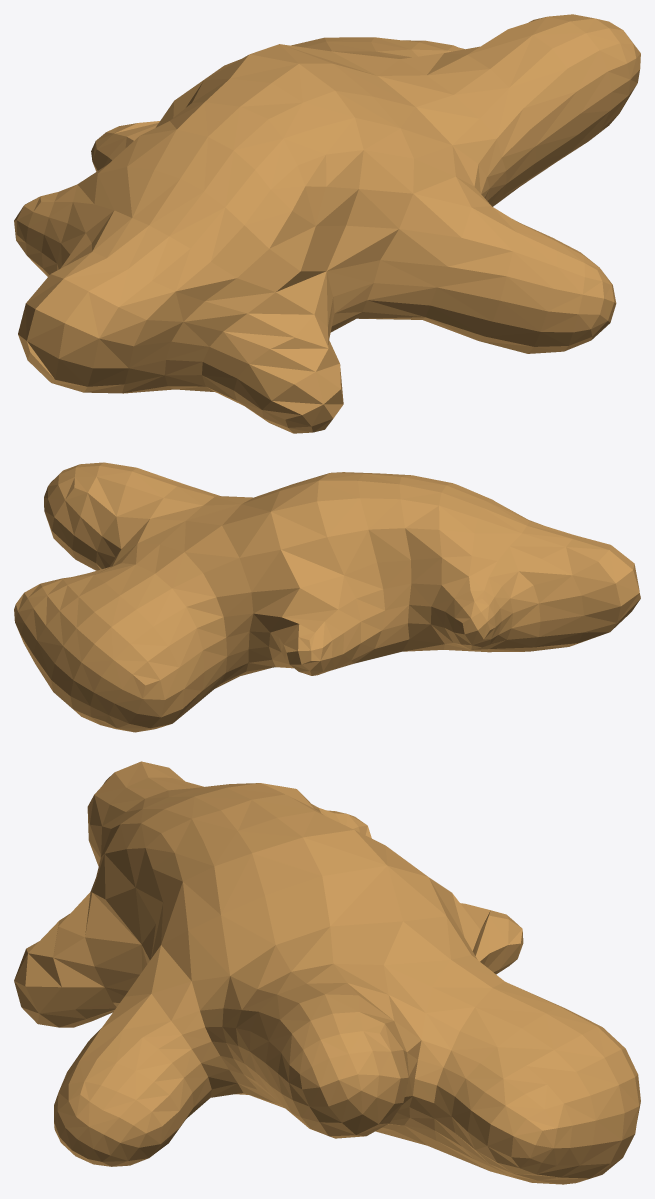
File: Ginger root.glb
3 views of the same model, one above another, from view 1: azimuth 30°, elevation 25°; view 2: azimuth 150°, elevation 25°; view 3: azimuth 270°, elevation 25° (orthographic). The views are drawn at different scales.
Parts seen in each view (by area): view 1: Node; view 2: Node; view 3: Node.
Part boxes in pixels (x1,y1,x2,y2): Node: (14, 14, 640, 433); Node: (14, 462, 640, 732); Node: (14, 761, 640, 1184).
Size of the model in its own units: 1.55 by 0.5796 by 1.2.
